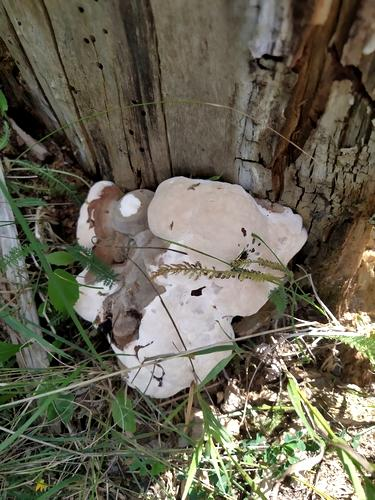Ganoderma - Fruit Body: (66, 178, 307, 399)
